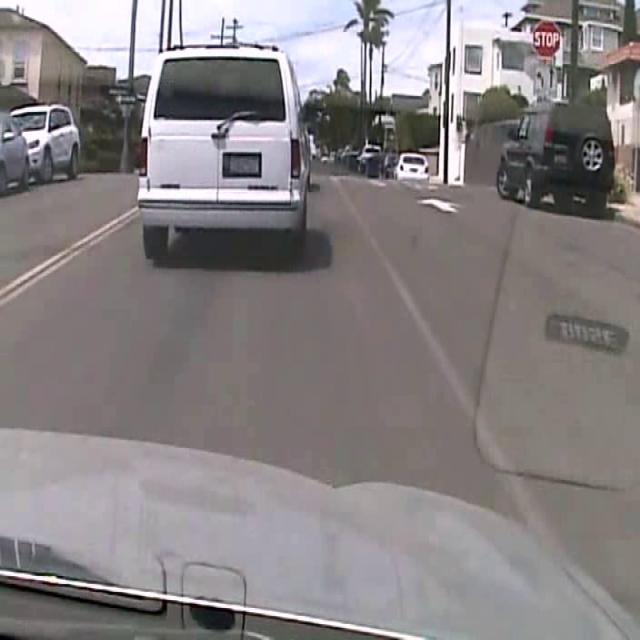stop_sign: (532, 17, 561, 59)
